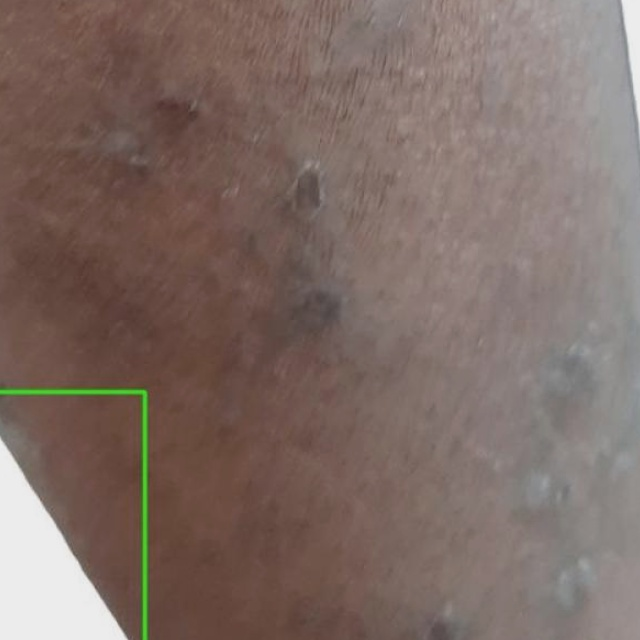Atopic Dermatitis: (0, 391, 144, 639)
